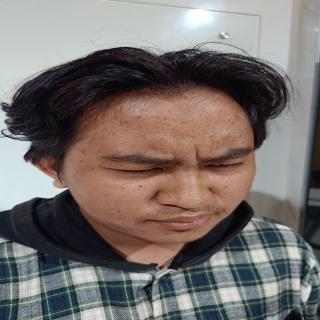Marah: (60, 80, 279, 244)
